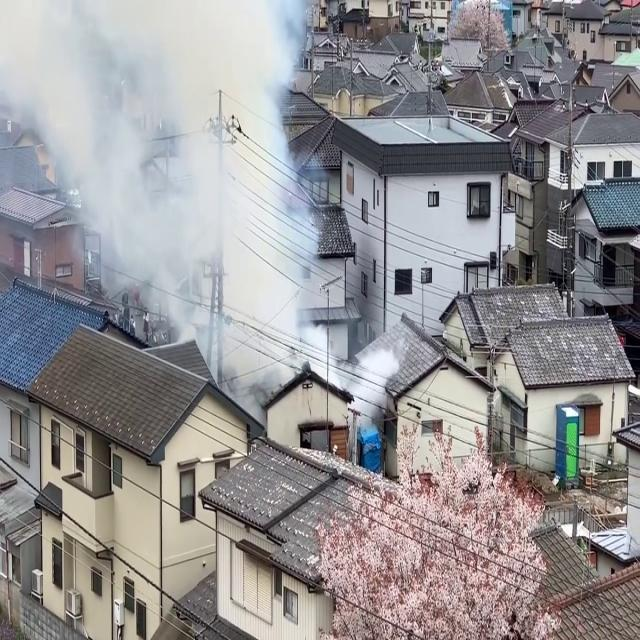Smoke: (1, 0, 330, 360)
